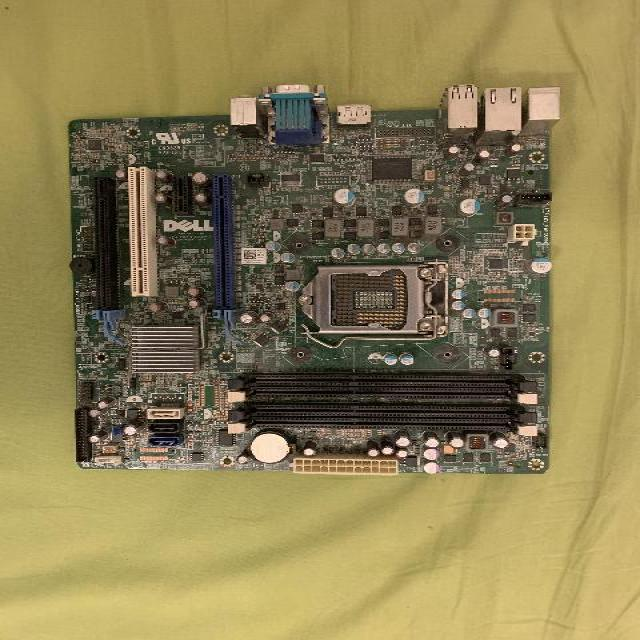Mainboard: (68, 84, 560, 474)
